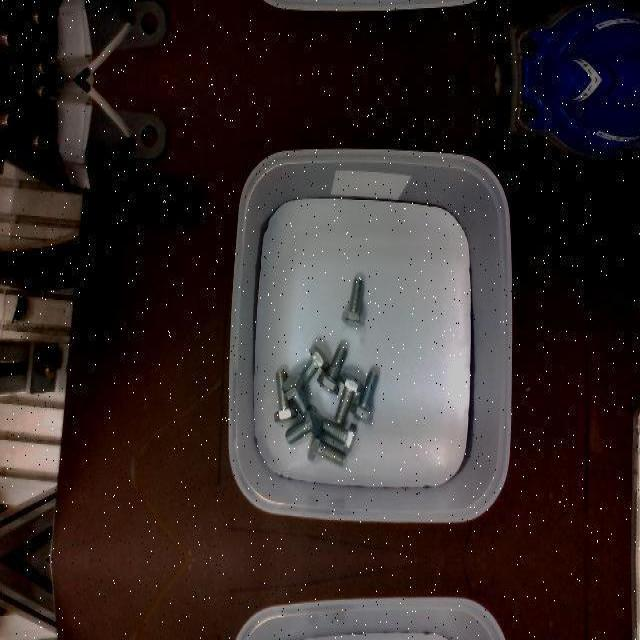screw: (285, 402, 323, 444), (349, 370, 379, 422), (317, 345, 348, 395), (334, 372, 363, 424), (340, 277, 364, 327)
